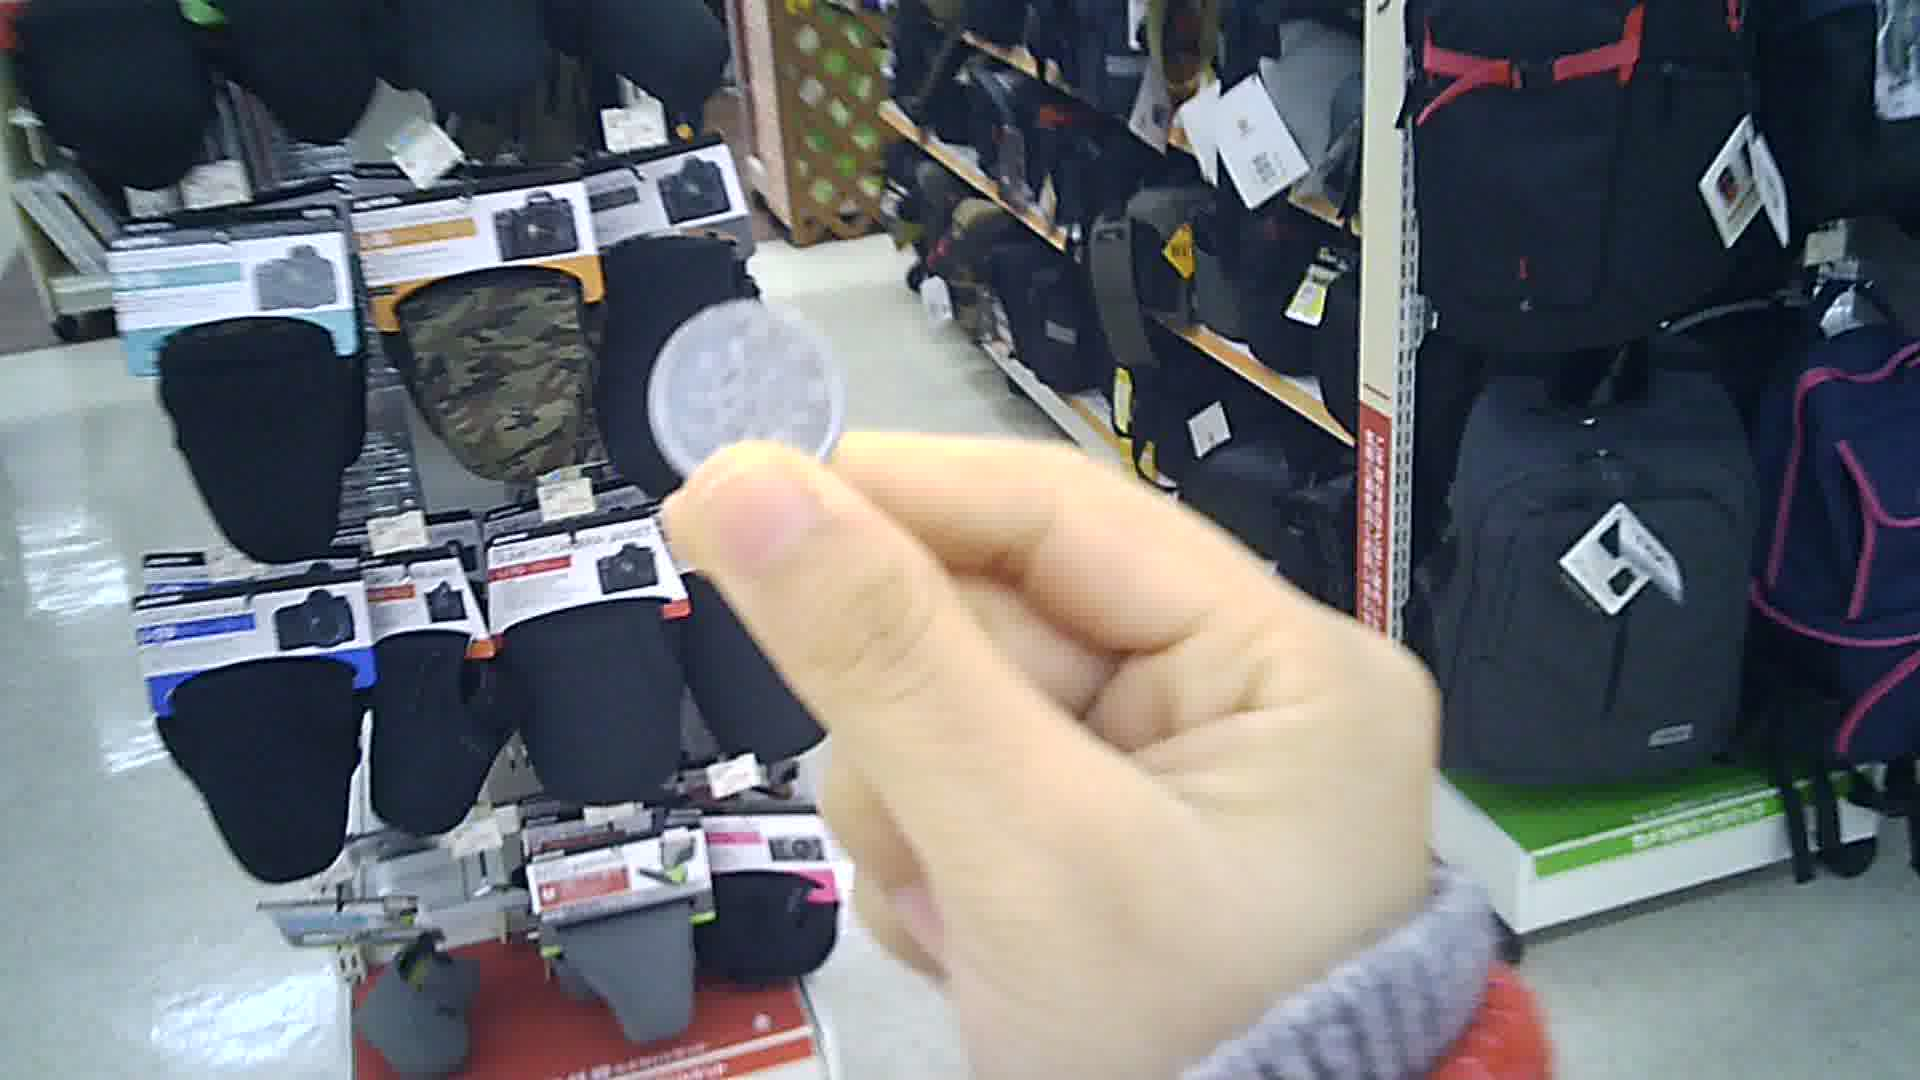1 Yen: (647, 305, 852, 491)
